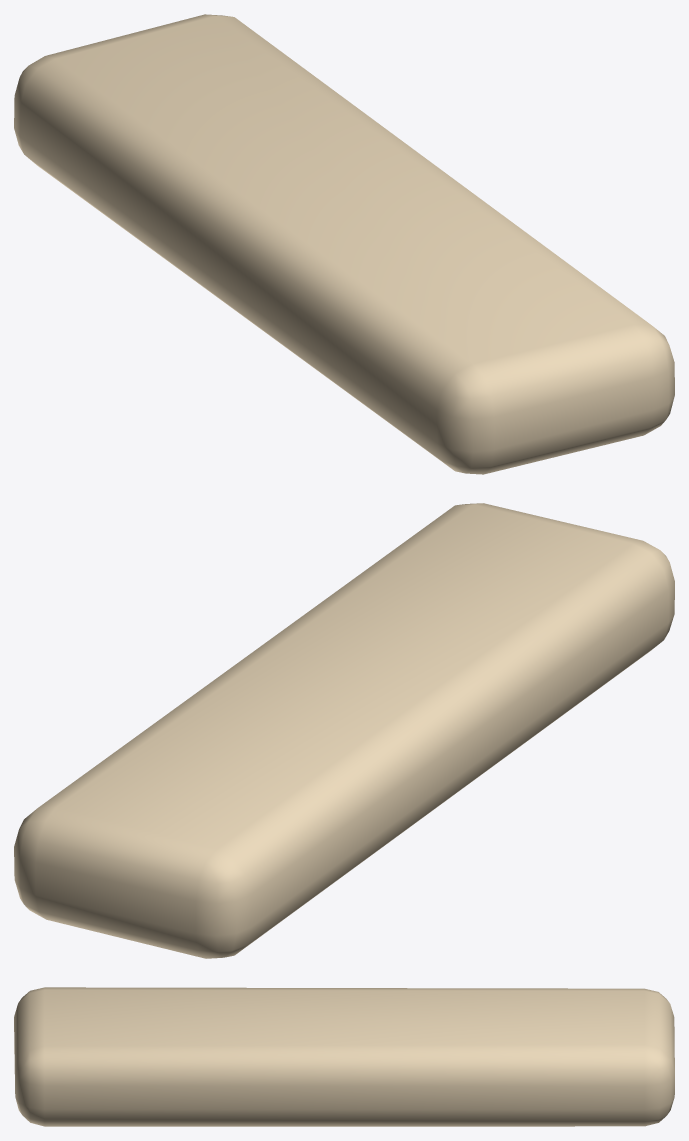
The model's file is BORD_TIEF.glb.
3 views of the same model, one above another, from view 1: azimuth 30°, elevation 25°; view 2: azimuth 150°, elevation 25°; view 3: azimuth 270°, elevation 25° (orthographic). The views are drawn at different scales.
Parts seen in each view (by area): view 1: BORD_TIEF; view 2: BORD_TIEF; view 3: BORD_TIEF.
Boxes of the visible parts, box(x1,y1,x2,y2) form: BORD_TIEF: box(14, 14, 674, 474); BORD_TIEF: box(14, 503, 674, 958); BORD_TIEF: box(14, 987, 674, 1126).
Size of the model in its own units: 0.453 by 0.2046 by 1.54.
